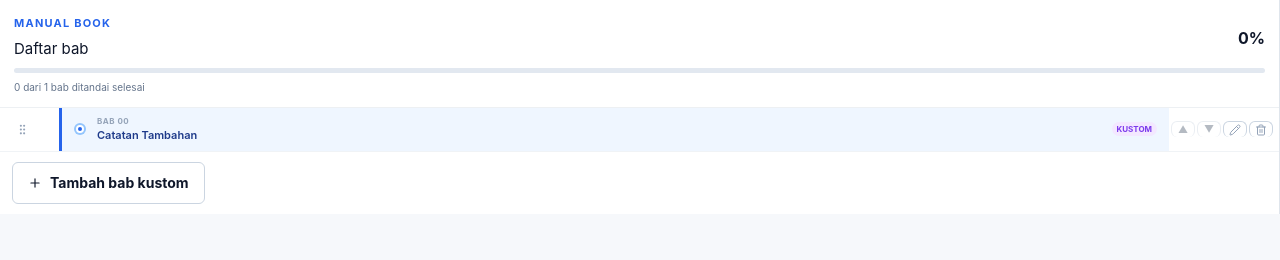
Test case: ChapterNav — delete confirmation › Cancel is the default-focused action and never deletes
Click the button named "Hapus bab Catatan Tambahan".
click(1261, 129)  # box [1249, 121, 1273, 137]
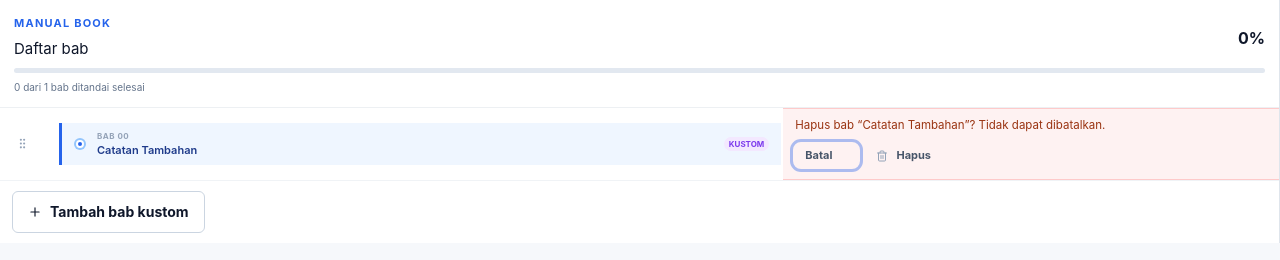
Click the button "Batal".
click(827, 156)  # box [795, 144, 858, 167]
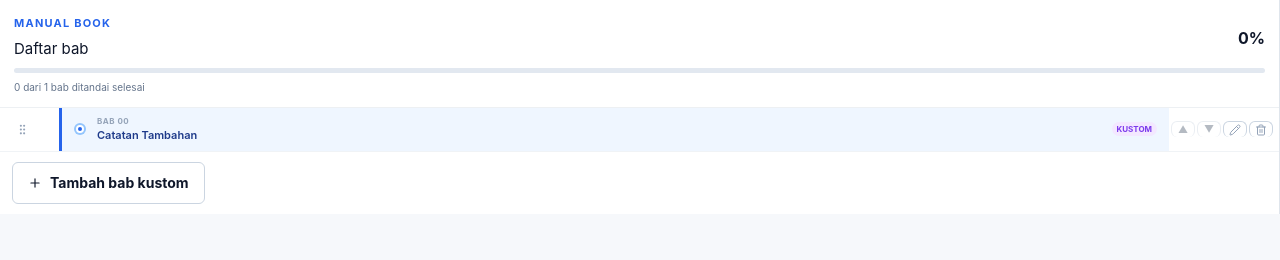
Expected: the button named "Hapus bab Catatan Tambahan" is shown, [1249, 121, 1273, 137]
